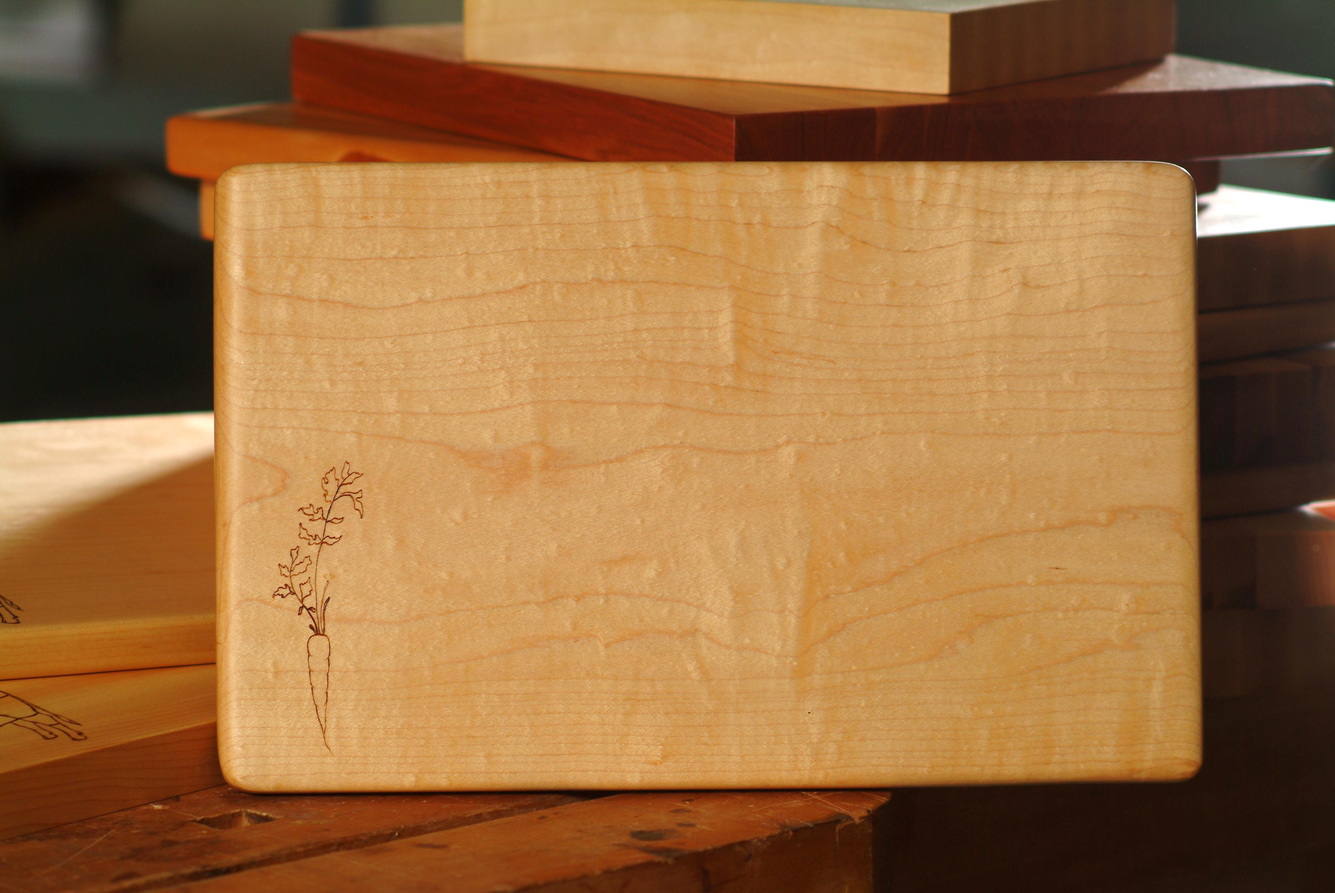gloved_hand: (186, 145, 1236, 799)
